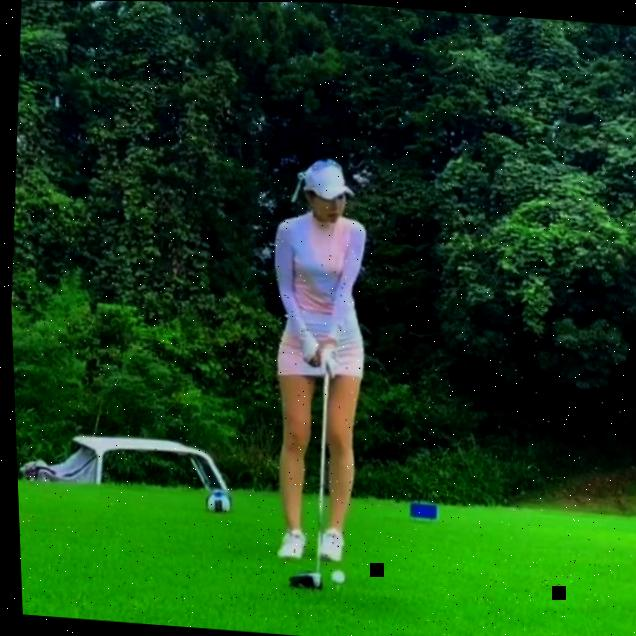ClubHead: (282, 571, 320, 593)
GolfBall: (326, 569, 343, 584)
